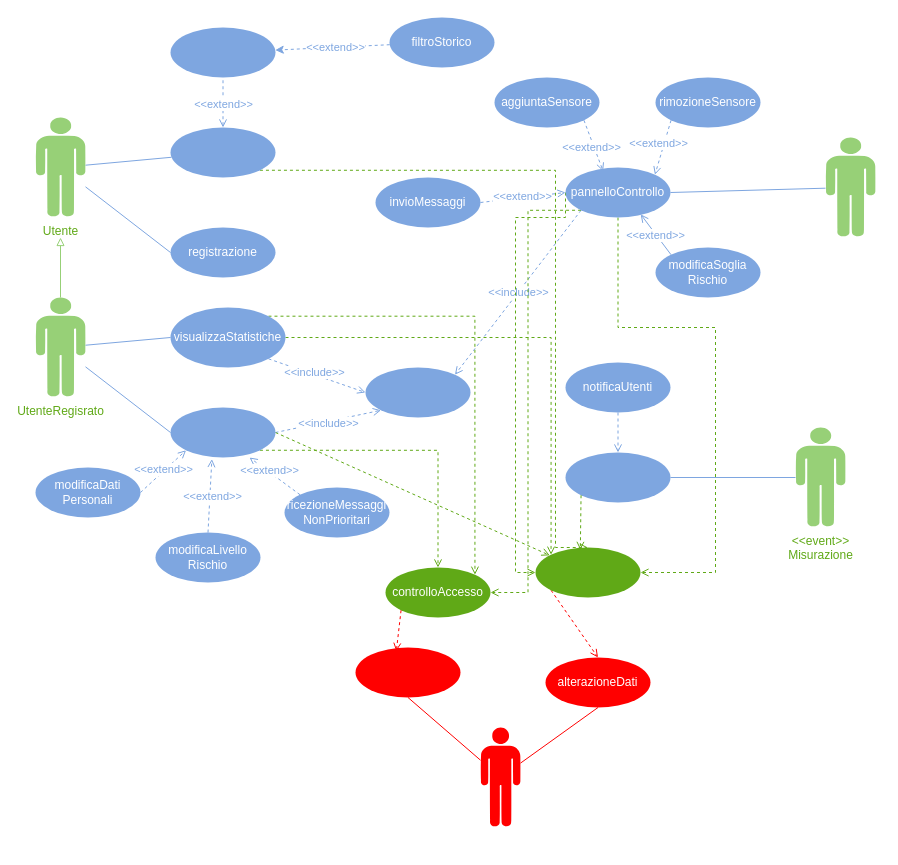
Image size: 898x865. Some labels were removed from this diagram. The centre of each missing label's shape, as x and y in pixels:
"analisiDati" belongs at (617,477).
"areaPersonale" belongs at (222,432).
"EnteLocale" belongs at (850,187).
"furtoCredenziali" belongs at (407,672).
"Hacker" belongs at (500,777).
"Integrità" belongs at (587,572).
"login" belongs at (417,392).
"visualizzaStorico" belongs at (222,52).
"visualizzaUltimo Dato" belongs at (222,152).
